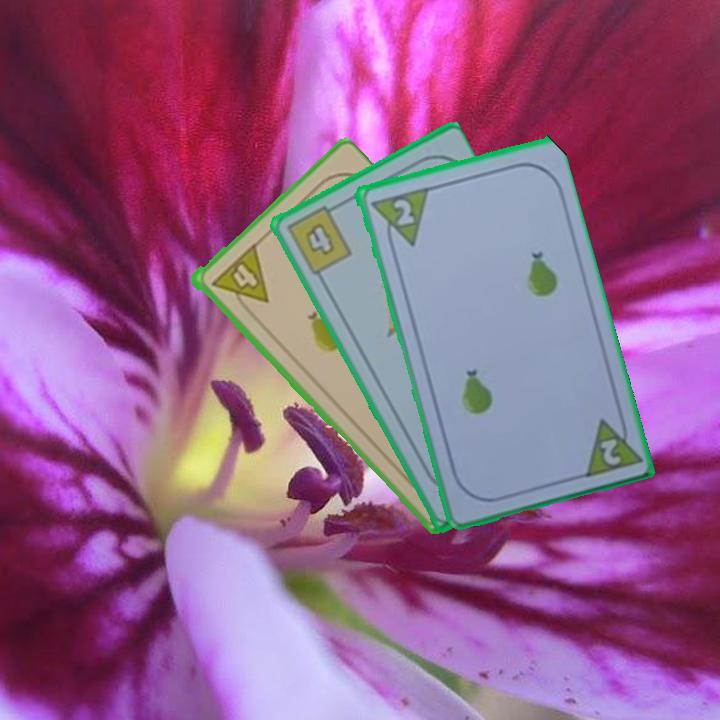2p: (596, 434, 624, 468), (389, 195, 417, 228)
4b: (282, 200, 355, 278)
4p: (206, 241, 271, 319)
